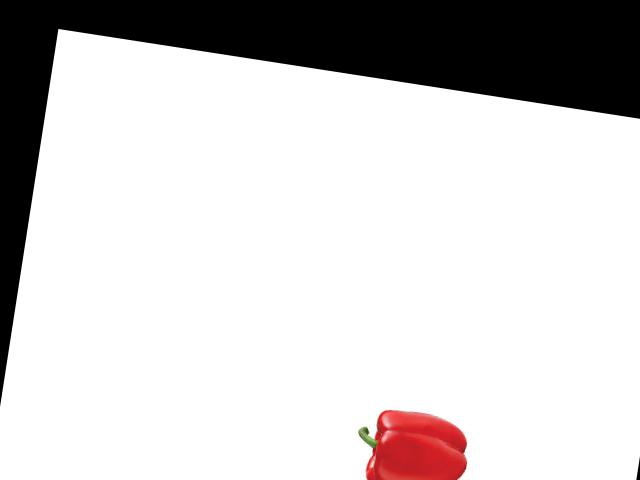bell_pepper: (349, 399, 477, 480)
